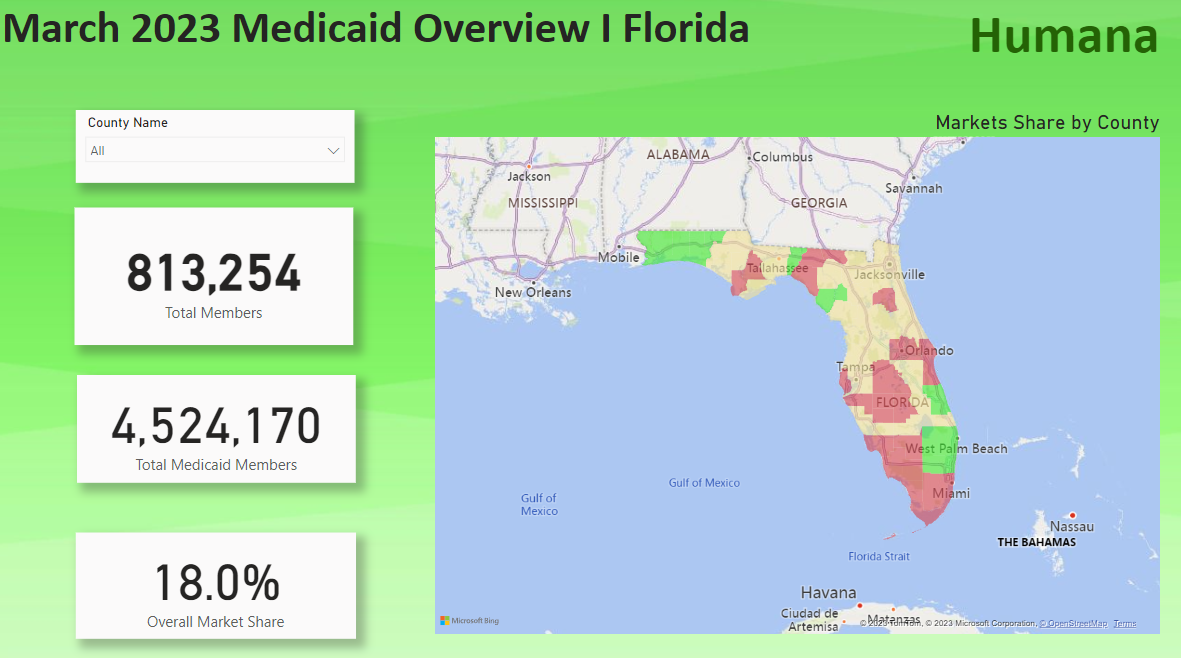

The page's visual inventory and layout, read from the dashboard file:
{"tool":"powerbi","page":{"name":"Page 1","canvas":[1280,720],"ordinal":0},"visuals":[{"type":"filledMap","title":"Markets Share by County","fields":{"Category":["data.County Name"]},"box":[466.8,123.8,789.6,569],"z":0},{"type":"card","fields":{"Values":["Sum(data.Count)"]},"box":[83.4,228.7,300,148],"z":1000},{"type":"card","fields":{"Values":["Sum(data.MMA Total)"]},"box":[86.1,408.9,300,115.7],"z":2000},{"type":"card","fields":{"Values":["data.Overall Market Share"]},"box":[84.7,578.4,301.3,114.3],"z":3000},{"type":"slicer","fields":{"Values":["data.County Name"]},"box":[84.7,123.8,300,78],"z":4000},{"type":"textbox","box":[0,0,933.5,86.1],"z":5000},{"type":"textbox","box":[933.5,0,322.8,110.3],"z":6000}]}

Visuals, with their boxes in screenshot pixels (x1, y1, x2, y2), scaled from the page's 1280x720 canvas onto the 1181x658 screenshot:
"Markets Share by County" filledMap: crop(431, 113, 1159, 633)
card - Sum(data.Count): crop(77, 209, 354, 344)
card - Sum(data.MMA Total): crop(79, 374, 356, 479)
card - data.Overall Market Share: crop(78, 529, 356, 633)
slicer - data.County Name: crop(78, 113, 355, 184)
textbox: crop(0, 0, 861, 79)
textbox: crop(861, 0, 1159, 101)
